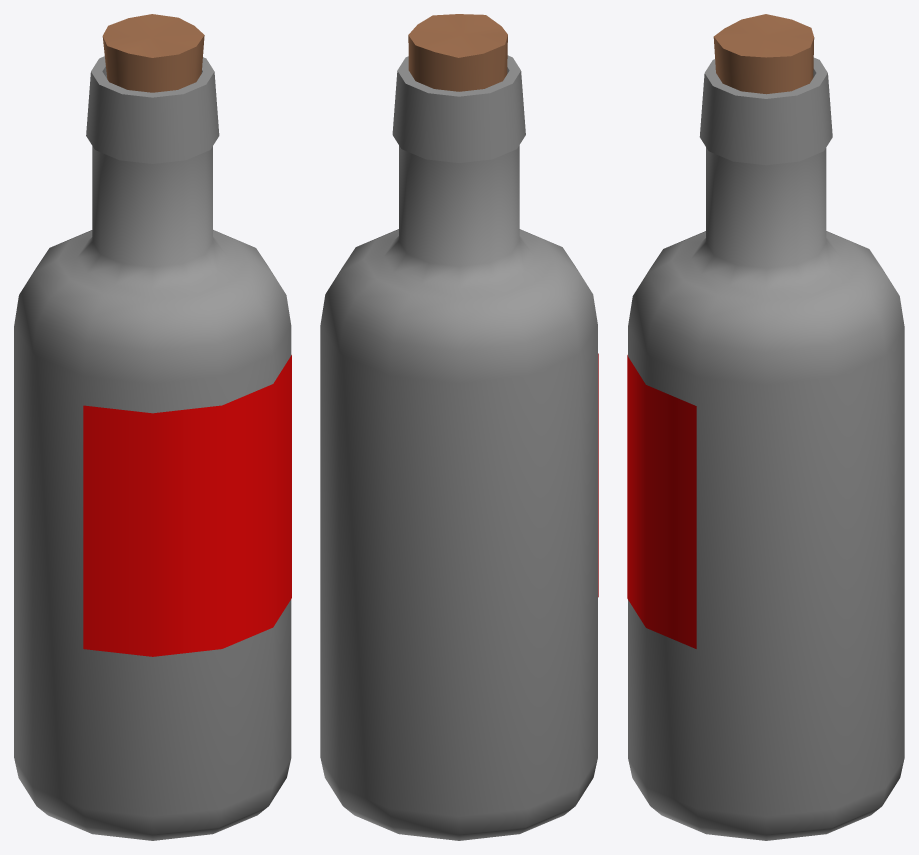
Rendered from Bottle01b.FBX.
The picture shows the model from 3 angles, left to right: view 1: azimuth 30°, elevation 25°; view 2: azimuth 150°, elevation 25°; view 3: azimuth 270°, elevation 25°; orthographic projection.
Visible parts, largest first — view 1: Bottle01b; view 2: Bottle01b; view 3: Bottle01b.
Part boxes in pixels (bbox=[...]): Bottle01b: bbox=[14, 14, 291, 840]; Bottle01b: bbox=[320, 14, 598, 840]; Bottle01b: bbox=[627, 14, 904, 840].
Size of the model in its own units: 2.76 by 8.33 by 2.76.
